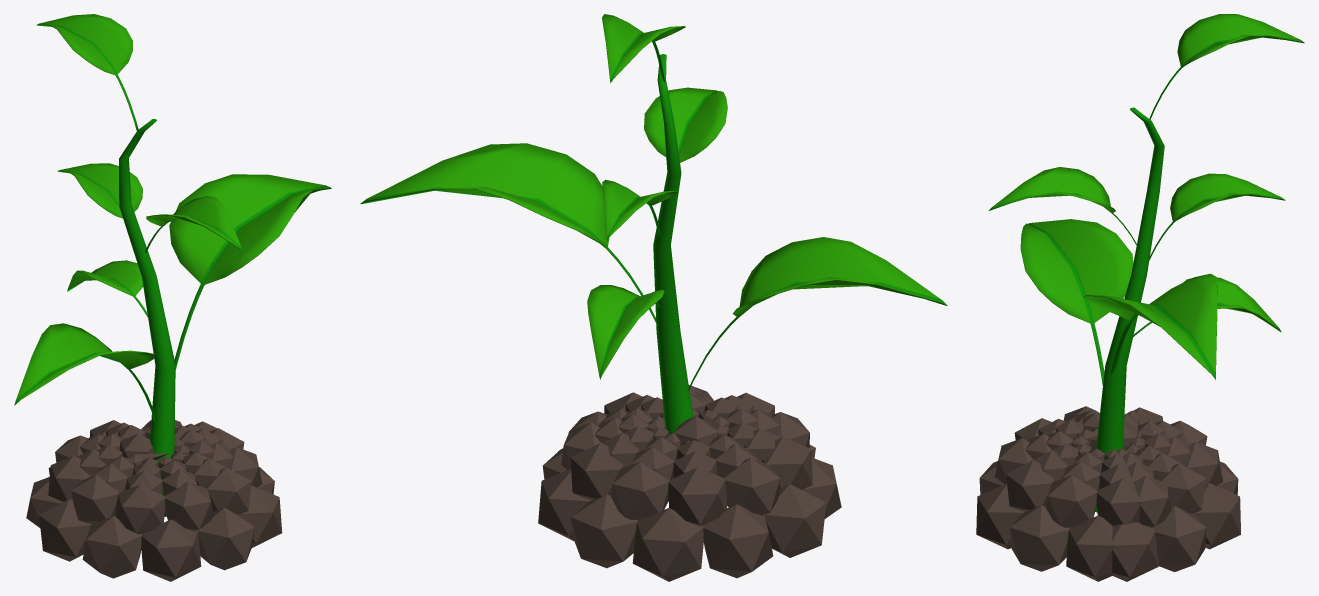
File: Leaf.fbx
3 views of the same model, side by side, from view 1: azimuth 30°, elevation 25°; view 2: azimuth 150°, elevation 25°; view 3: azimuth 270°, elevation 25° (orthographic). The views are drawn at different scales.
Parts seen in each view (by area): view 1: Soil, Plant; view 2: Soil, Plant; view 3: Soil, Plant.
Boxes of the visible parts, x1,y1,x2,y2 form: Soil: [26, 420, 282, 581]; Plant: [14, 14, 331, 516]; Soil: [538, 385, 841, 581]; Plant: [360, 14, 947, 501]; Soil: [976, 406, 1240, 581]; Plant: [989, 14, 1304, 512].
Bounding box in the file's own units: 1432 × 1604 × 944.
